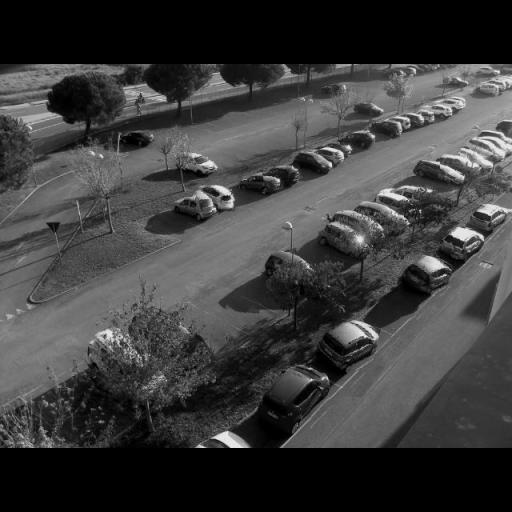busy: (88, 328, 178, 396), (246, 364, 330, 432), (129, 310, 212, 372), (313, 319, 378, 371), (261, 252, 328, 290), (398, 254, 452, 294), (316, 220, 372, 258), (388, 180, 450, 207), (436, 228, 484, 260), (169, 193, 218, 221), (356, 202, 404, 228), (466, 204, 510, 231), (416, 162, 464, 186), (195, 184, 239, 210), (238, 170, 282, 194), (460, 140, 506, 161), (440, 152, 482, 174), (293, 152, 334, 173), (182, 155, 221, 176), (262, 164, 302, 184), (338, 130, 376, 150), (368, 121, 402, 138), (122, 131, 154, 149), (473, 83, 503, 98), (420, 104, 452, 118), (480, 79, 510, 92)
free: (38, 386, 92, 420), (191, 320, 233, 350), (377, 294, 418, 320), (223, 302, 259, 327), (238, 280, 272, 306), (297, 242, 329, 264), (152, 214, 186, 234), (212, 150, 238, 167), (286, 120, 309, 138), (308, 116, 330, 134), (230, 188, 253, 202), (332, 113, 351, 127), (236, 144, 254, 157), (369, 131, 391, 141), (273, 133, 290, 145), (254, 139, 270, 151)
